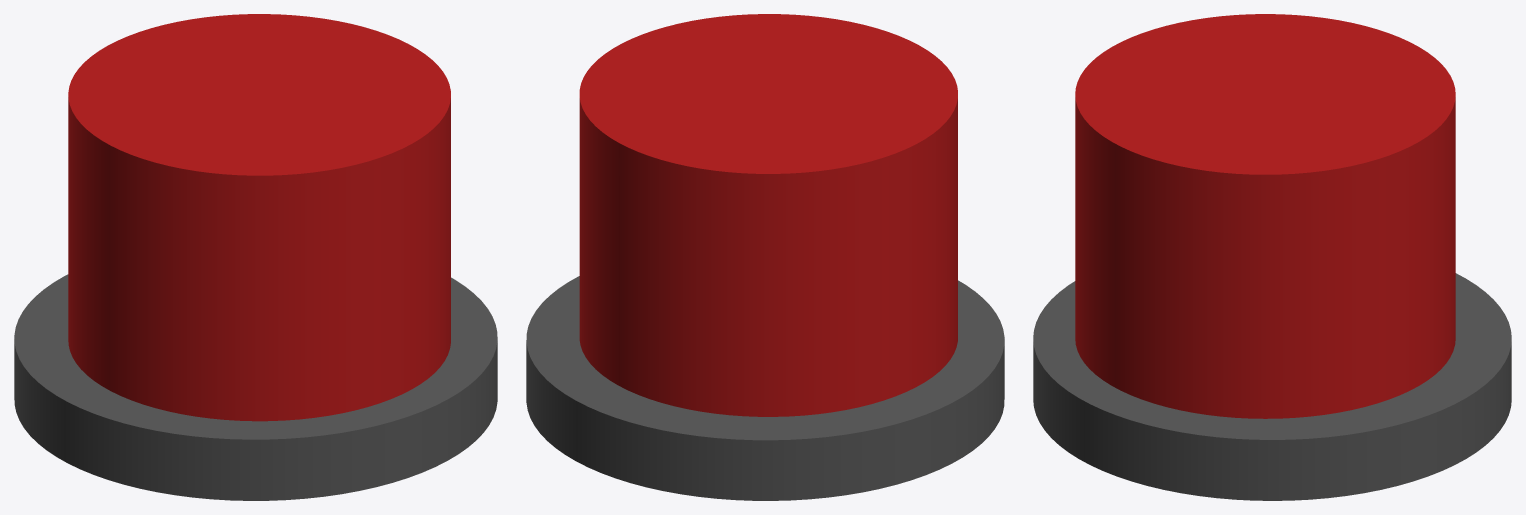
File: redButton.fbx
3 renders of one model, left to right at view 1: azimuth 30°, elevation 25°; view 2: azimuth 150°, elevation 25°; view 3: azimuth 270°, elevation 25°, orthographic.
Parts seen in each view (by area): view 1: node_id197 (×2); view 2: node_id197 (×2); view 3: node_id197 (×2).
Boxes of the visible parts, <box> form: node_id197 (×2): <box>14,14,497,500</box>; node_id197 (×2): <box>526,14,1004,500</box>; node_id197 (×2): <box>1033,14,1511,500</box>.
Size of the model in its own units: 0.1241 by 0.0868 by 0.1234.
